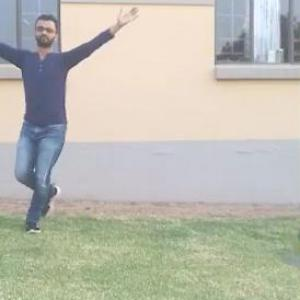takeoff: (0, 19, 126, 196)
